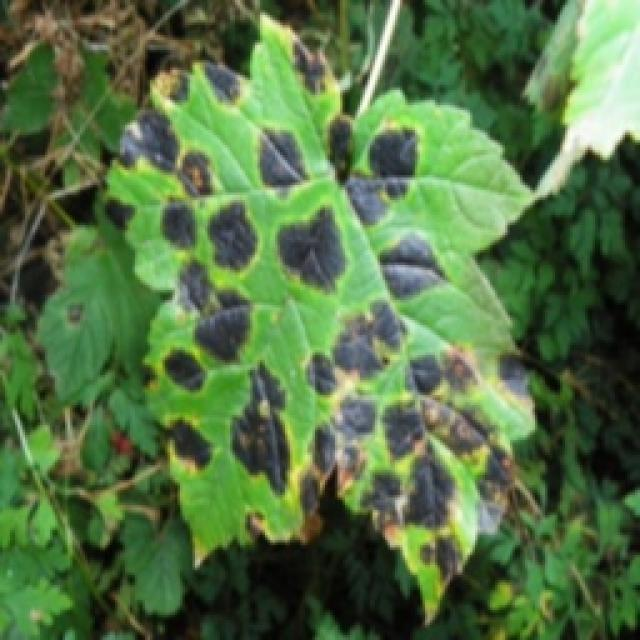Tar_Spot: (95, 12, 537, 628)
